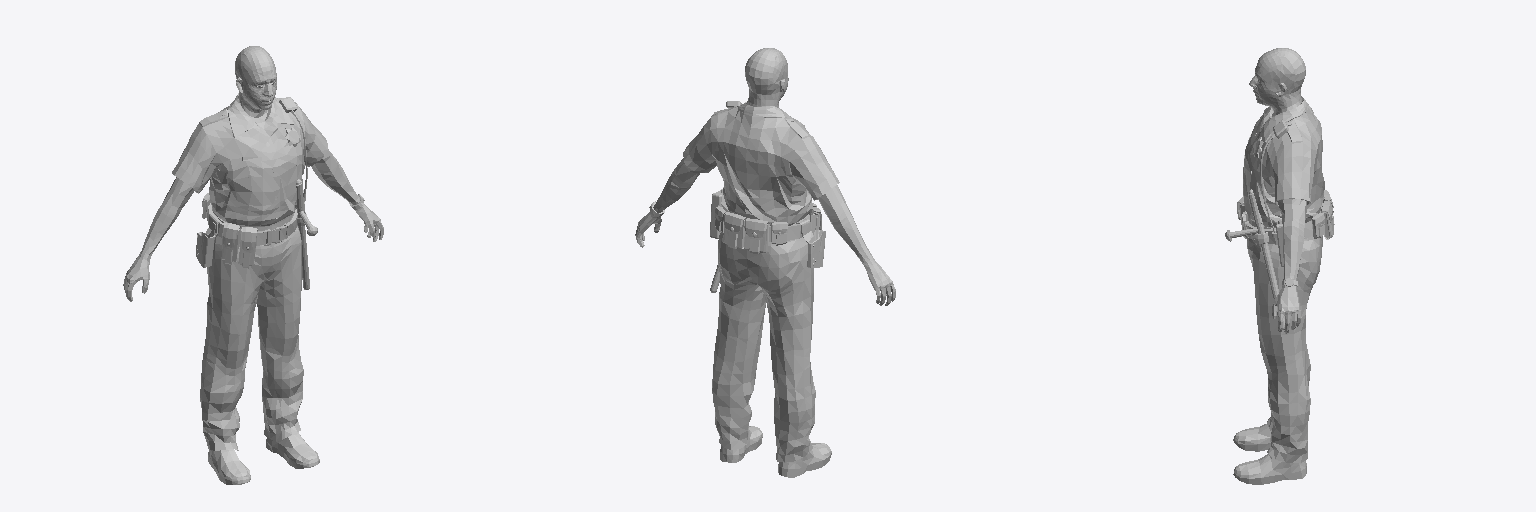
The model's file is csb_cop_0.obj.
The picture shows the model from 3 angles: view 1: azimuth 30°, elevation 25°; view 2: azimuth 150°, elevation 25°; view 3: azimuth 270°, elevation 25°; orthographic projection.
Visible parts, largest first — view 1: csb_cop_0_0_0, csb_cop_3_0_0, csb_cop_4_0_0, csb_cop_1_0_0, csb_cop_2_0_0; view 2: csb_cop_0_0_0, csb_cop_3_0_0, csb_cop_4_0_0, csb_cop_1_0_0, csb_cop_2_0_0; view 3: csb_cop_0_0_0, csb_cop_3_0_0, csb_cop_4_0_0, csb_cop_2_0_0, csb_cop_1_0_0.
Boxes of the visible parts, <box> form: csb_cop_0_0_0: <box>200,212,319,484</box>; csb_cop_3_0_0: <box>172,93,327,226</box>; csb_cop_4_0_0: <box>196,97,317,289</box>; csb_cop_1_0_0: <box>123,149,383,301</box>; csb_cop_2_0_0: <box>235,46,276,121</box>; csb_cop_0_0_0: <box>712,217,831,477</box>; csb_cop_3_0_0: <box>683,102,839,225</box>; csb_cop_4_0_0: <box>710,101,825,292</box>; csb_cop_1_0_0: <box>635,158,895,305</box>; csb_cop_2_0_0: <box>745,48,788,107</box>; csb_cop_0_0_0: <box>1233,216,1322,484</box>; csb_cop_3_0_0: <box>1243,96,1324,227</box>; csb_cop_4_0_0: <box>1225,120,1334,329</box>; csb_cop_2_0_0: <box>1249,48,1305,116</box>; csb_cop_1_0_0: <box>1272,199,1306,333</box>.
Size of the model in its own units: 152 by 235 by 56.21.